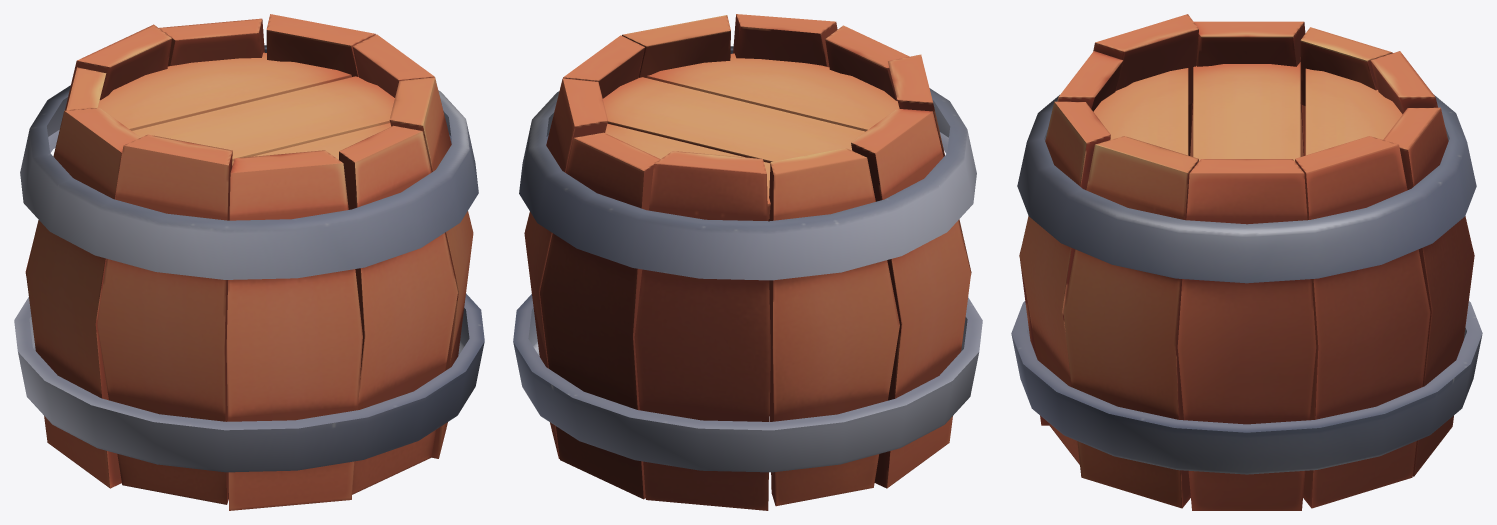
The model's file is barrel_006.fbx.
3 views of the same model, side by side, from view 1: azimuth 30°, elevation 25°; view 2: azimuth 150°, elevation 25°; view 3: azimuth 270°, elevation 25° (orthographic).
Visible parts, largest first — view 1: barrel_001.002; view 2: barrel_001.002; view 3: barrel_001.002.
Boxes of the visible parts, <box> form: barrel_001.002: <box>14,14,484,510</box>; barrel_001.002: <box>513,14,982,510</box>; barrel_001.002: <box>1011,14,1482,510</box>.
Size of the model in its own units: 65.14 by 51.38 by 65.22.
